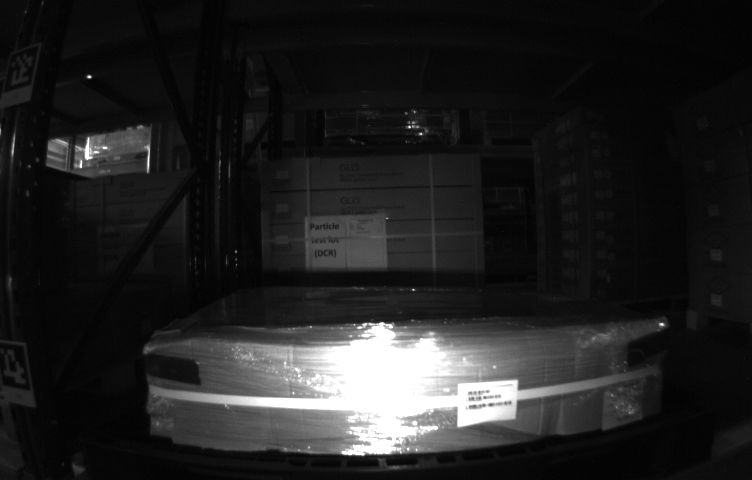True Barcode: (603, 384, 649, 426)
